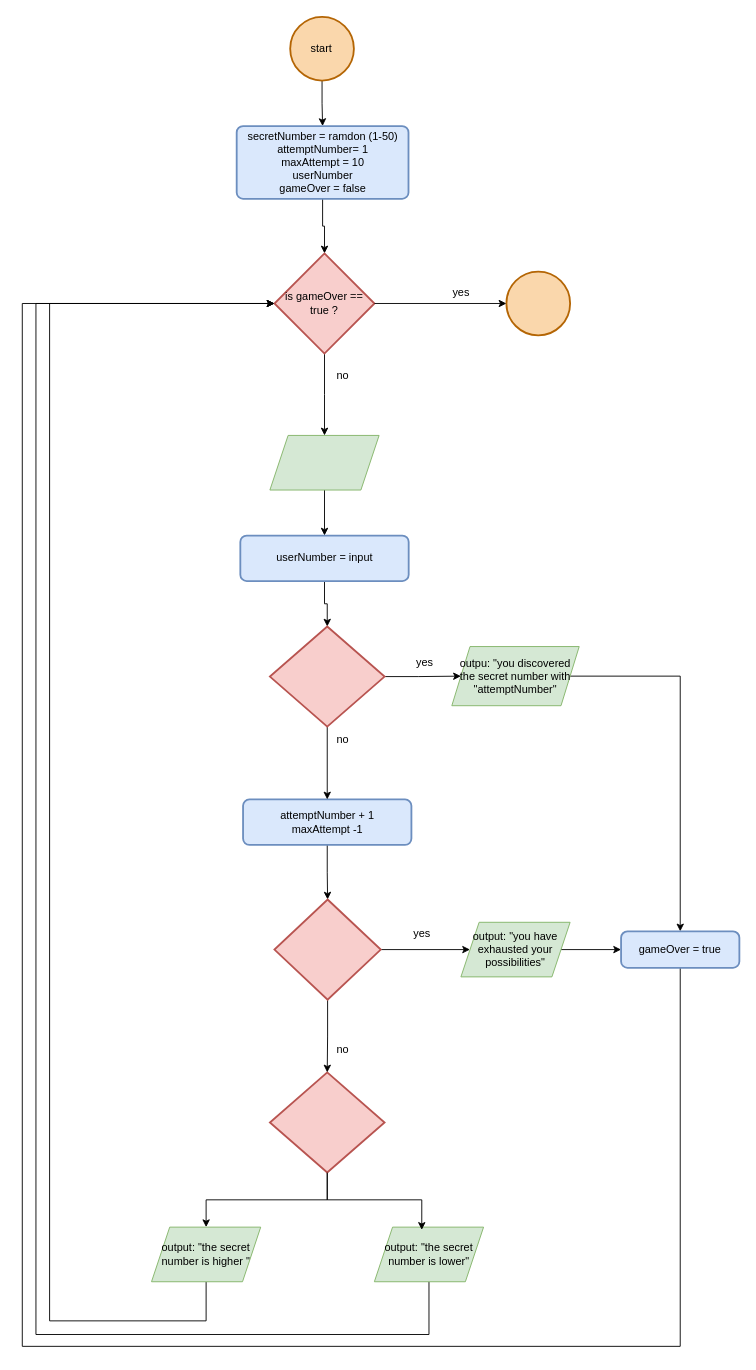
Some shapes in this 756 by 1370 pixel diagram are drawn without their labels. The shapes that lost their labels are listed below. From the top down, each one's centre as x and y in pixels, then its label:
(538,303): end
(324,462): output: enter a number(1-50)
(327,676): is userNumber == secretNumber?
(327,949): is maxAttempt == 0 ?
(327,1122): is userNumber > secretNumber ?
